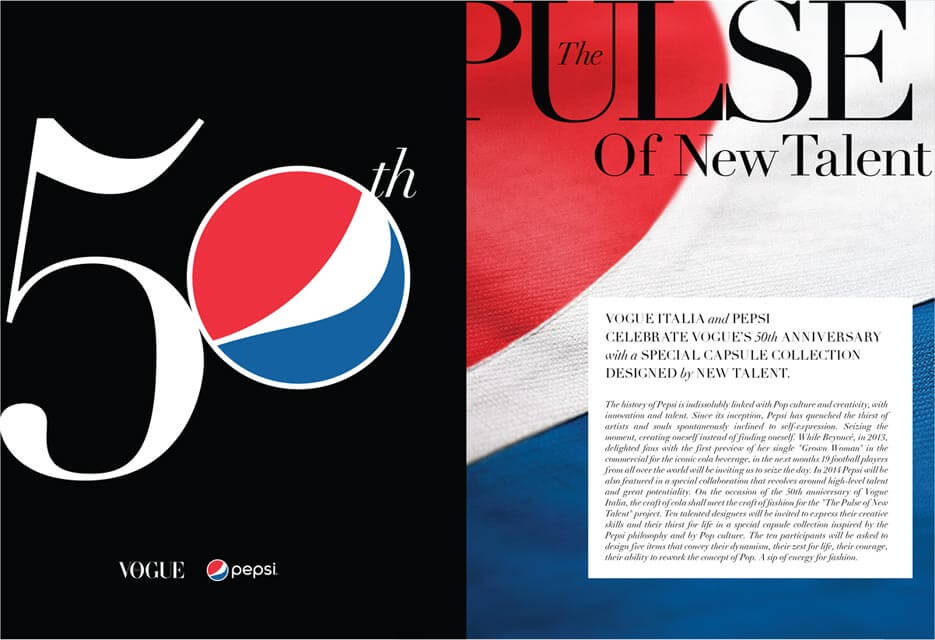pepsi: (184, 164, 414, 387), (184, 164, 414, 384), (200, 164, 414, 384)
